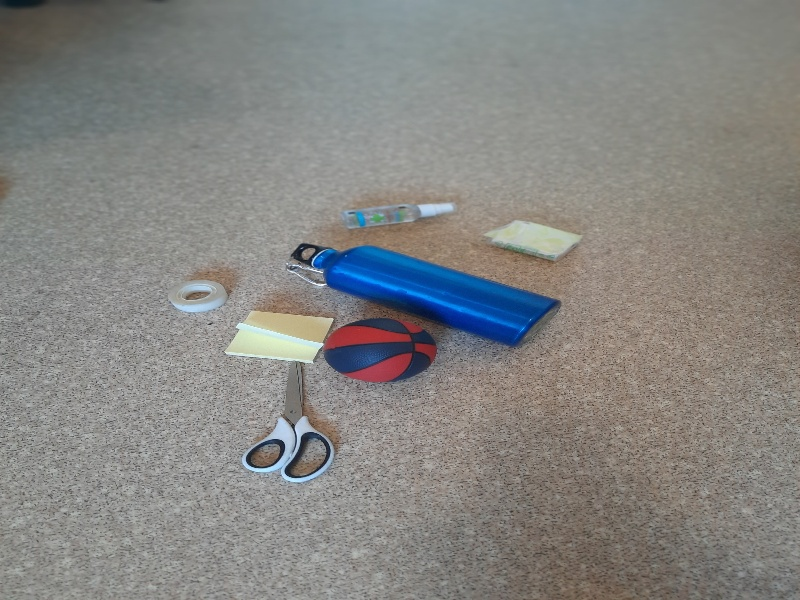ballon: (324, 318, 433, 384)
ciseaux: (242, 359, 336, 484)
gel: (342, 200, 459, 230)
gourde: (283, 239, 564, 351)
mouchoirs: (484, 218, 586, 264)
post-it: (224, 315, 335, 363)
scotch: (169, 280, 229, 311)
